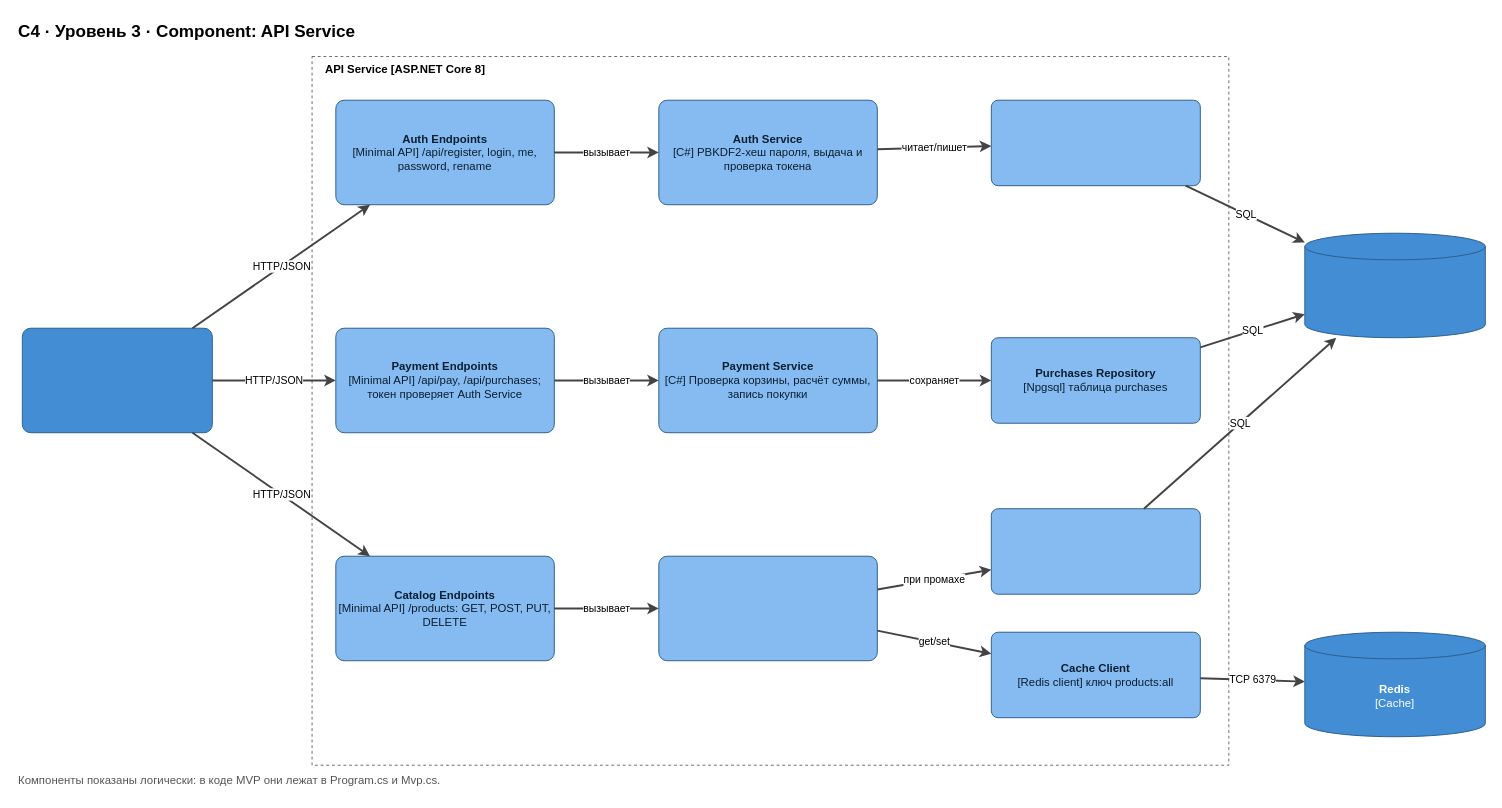
The diagram is 1502 pixels wide and 808 high, and some of its shapes have lost their labels. The shapes that lost their labels are listed below. From the top down, each one's box as (x1, y1, x2, y2) in pixels, then its label:
(990, 99, 1200, 186): Users Repository [Npgsql] таблица users
(1304, 232, 1485, 338): PostgreSQL 16 [Database]
(21, 327, 212, 433): API Gateway [Nginx] Пересылает запросы клиента
(990, 508, 1200, 594): Products Repository [Npgsql] таблица products
(658, 555, 877, 661): Catalog Service [C#] Каталог по схеме cache-aside через Redis
